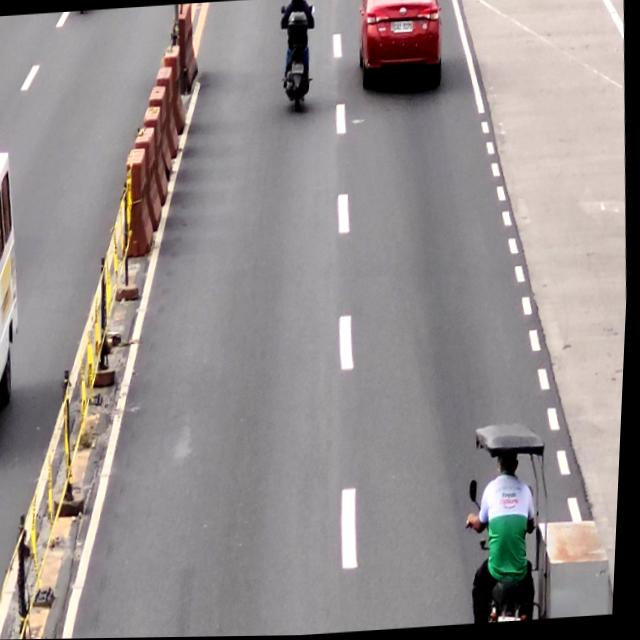Car: (353, 0, 448, 94)
License-Plate: (392, 21, 414, 36), (291, 63, 306, 76)
Motorcycle: (277, 3, 322, 115)
